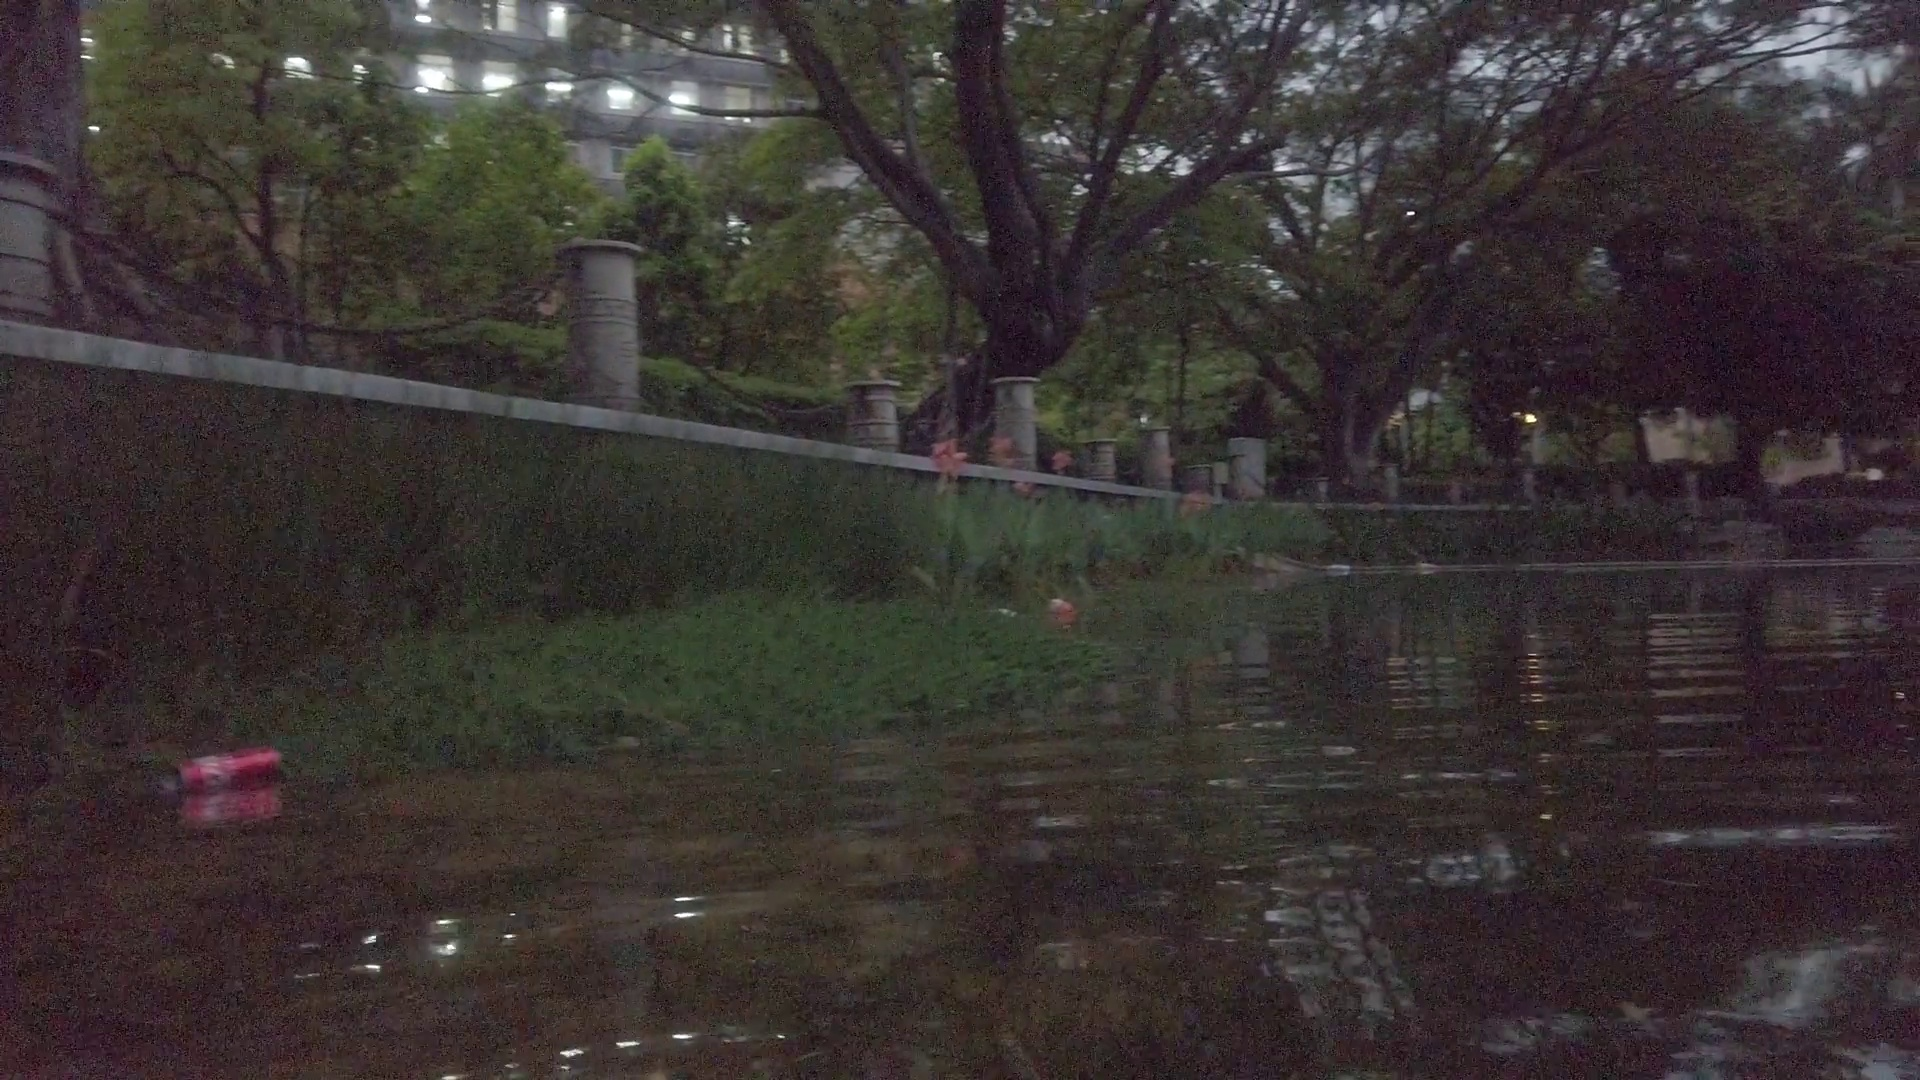bottle: (166, 750, 281, 793), (1047, 597, 1081, 626), (1408, 562, 1445, 582), (1320, 560, 1350, 579)
